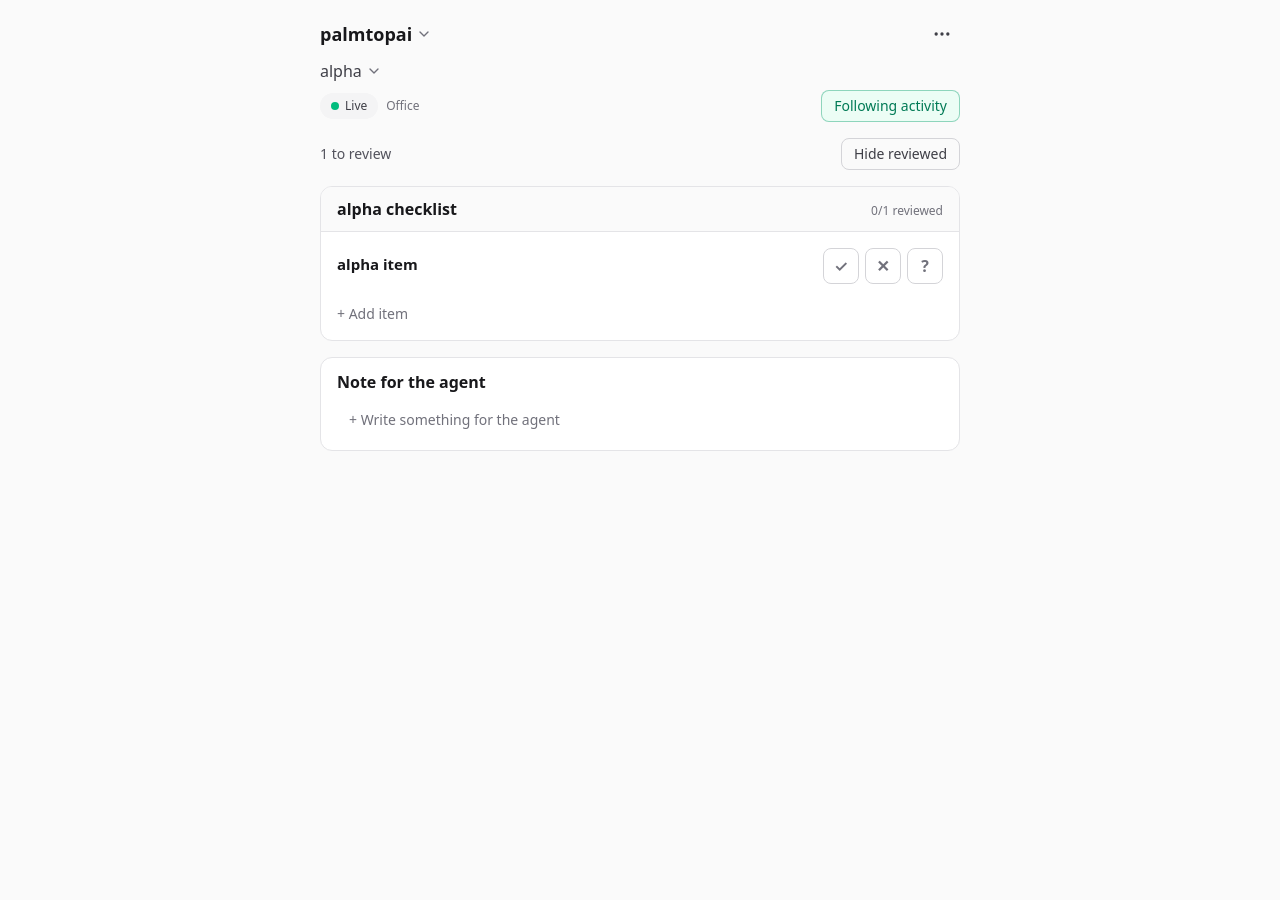
Scenario: ProjectView › follows the session sending data, stops on a manual pick and resumes when told
The image size is (1280, 900).
Later steps or results of the test are not shown.
Expected: the element "alpha checklist" is shown, [320,186,960,341]
# A manual pick of beta in the sheet stops following.
Click the button with aria-label "Session alpha, change" at {"x": 351, "y": 71}, box [320,60,382,82]
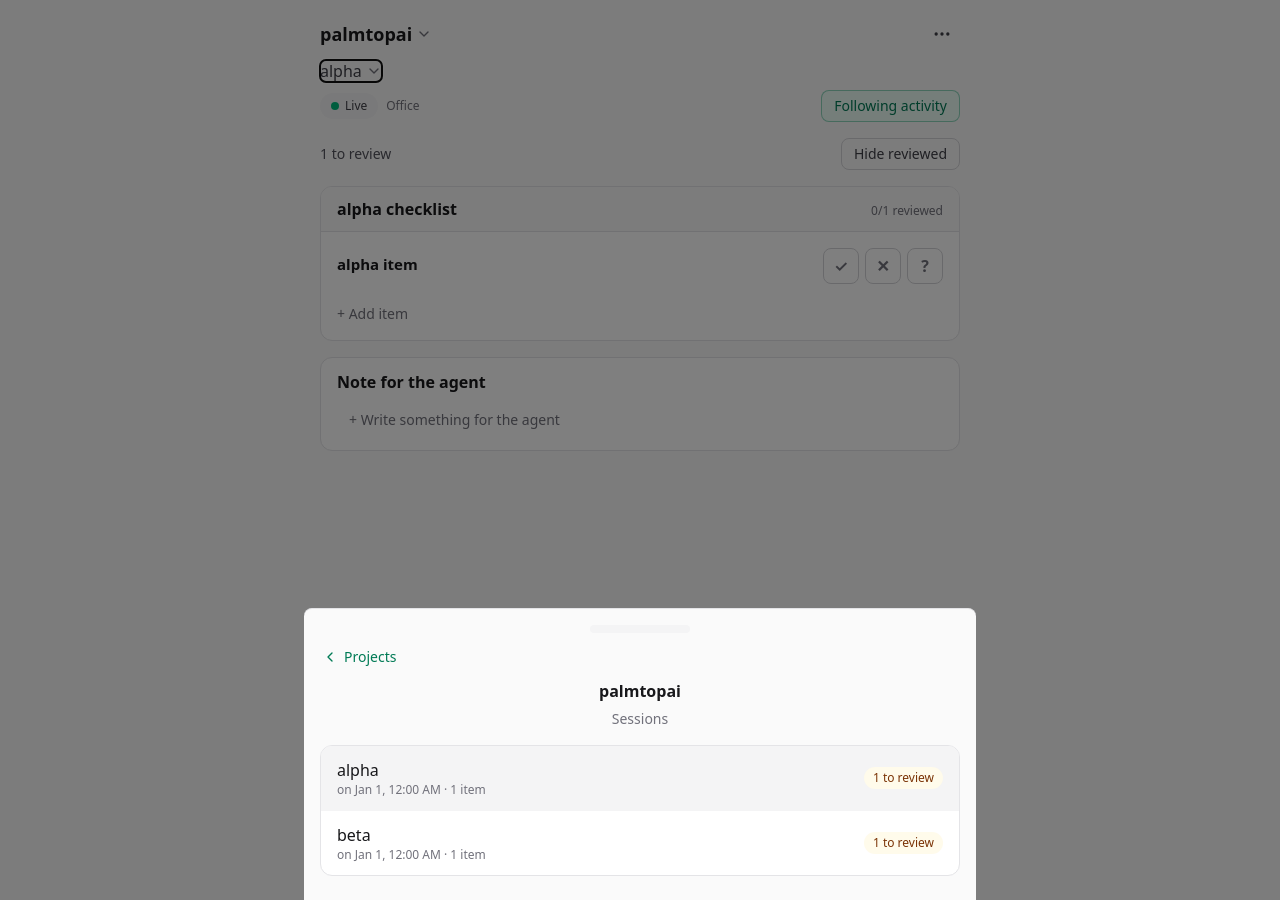
Click the button "beta on Jan 1, 12:00 AM · 1 item 1 to review" at {"x": 354, "y": 835}, box [321,811,959,875]
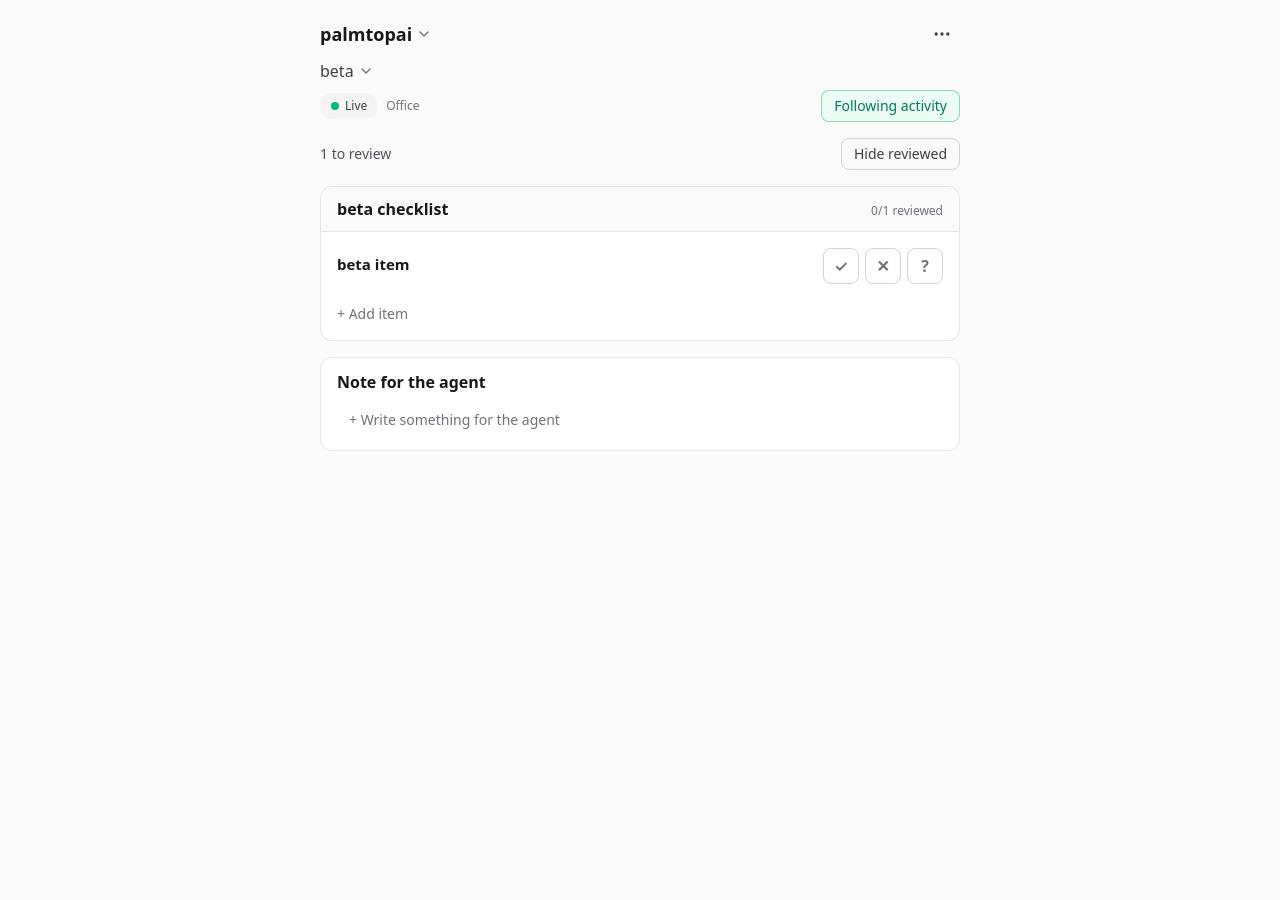
Now the element "beta checklist" is shown, box [320,186,960,341]
